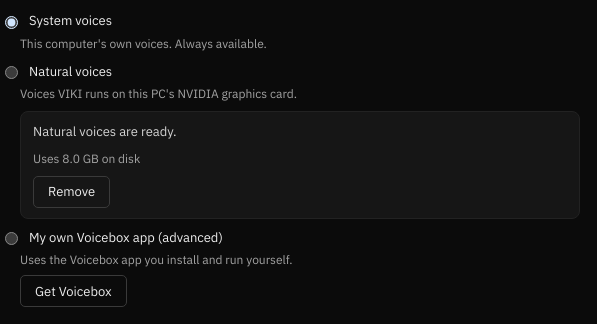
Keep cancels the remove confirm
Click the button "Remove" at (72, 192), box [33, 176, 110, 208]
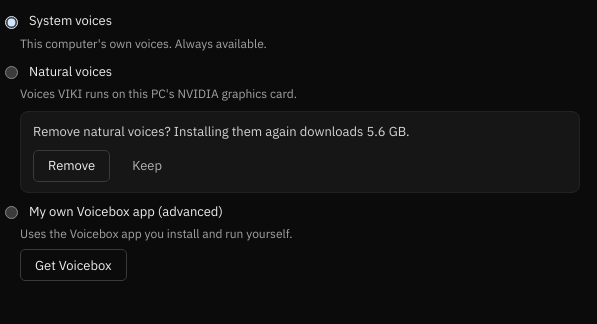
Click the button "Keep" at (147, 166), box [118, 150, 176, 182]
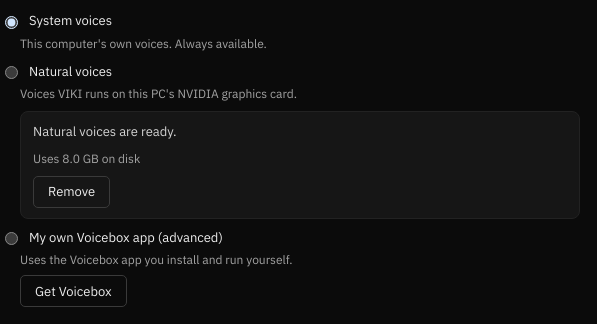
Expected: the message reads "Natural voices are ready.", [33, 123, 177, 140]
